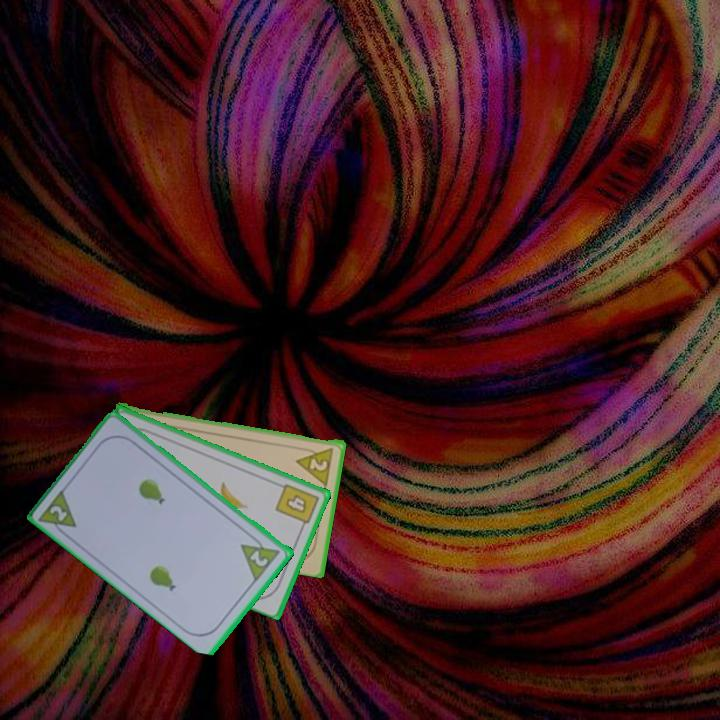2p: (36, 485, 80, 541), (293, 444, 337, 487), (247, 547, 272, 570)
4b: (272, 480, 322, 532)
